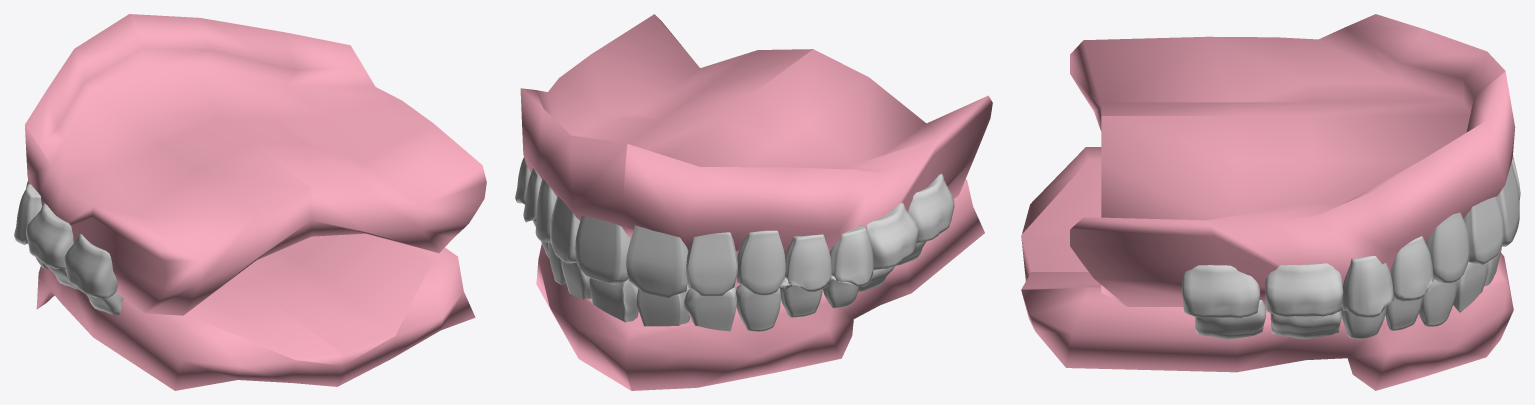
File: dentures.fbx
3 views of the same model, side by side, from view 1: azimuth 30°, elevation 25°; view 2: azimuth 150°, elevation 25°; view 3: azimuth 270°, elevation 25° (orthographic). The views are drawn at different scales.
Visible parts, largest first — view 1: Cube, Cube.003, Cube.002, Cube.001; view 2: Cube, Cube.002, Cube.003, Cube.001; view 3: Cube, Cube.003, Cube.002, Cube.001.
Boxes of the visible parts, <box> form: Cube: <box>25,14,486,315</box>; Cube.003: <box>36,233,475,390</box>; Cube.002: <box>14,180,117,298</box>; Cube.001: <box>36,257,123,315</box>; Cube: <box>520,14,992,279</box>; Cube.002: <box>515,157,954,297</box>; Cube.003: <box>536,179,984,390</box>; Cube.001: <box>533,221,926,331</box>; Cube: <box>1070,14,1515,306</box>; Cube.003: <box>1021,147,1513,390</box>; Cube.002: <box>1182,155,1520,318</box>; Cube.001: <box>1195,247,1501,339</box>.
Bounding box in the file's own units: 0.2818 × 0.1805 × 0.3026.
